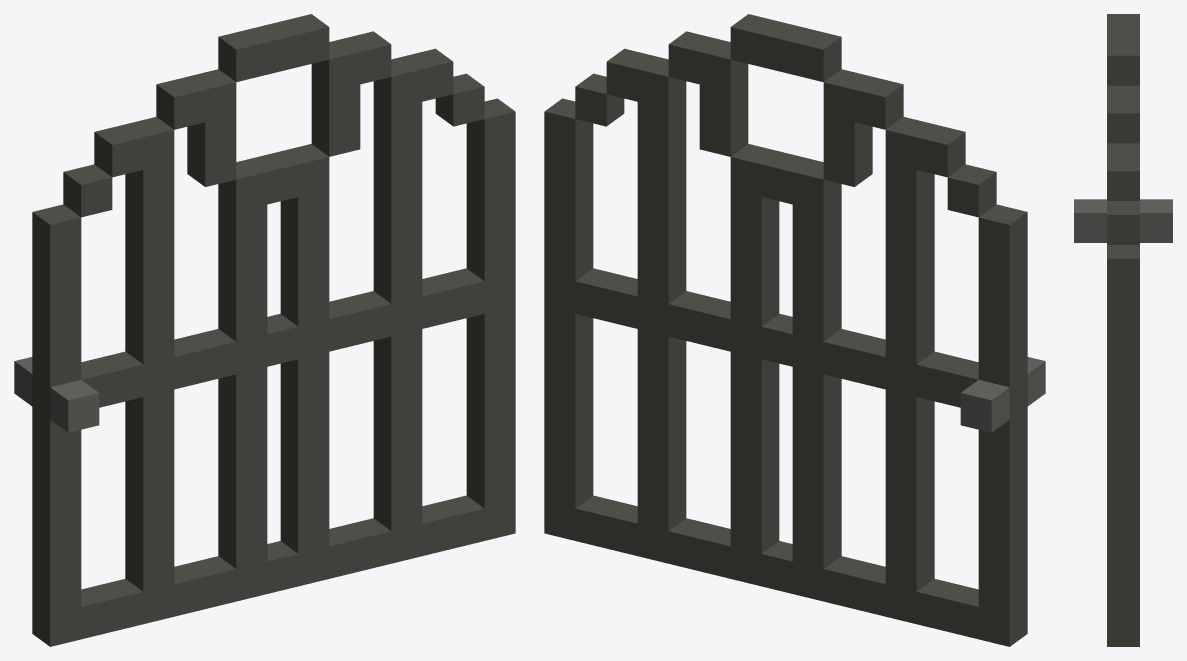
Rendered from church-43-gy_gatesingle.obj.
The picture shows the model from 3 angles, left to right: view 1: azimuth 30°, elevation 25°; view 2: azimuth 150°, elevation 25°; view 3: azimuth 270°, elevation 25°; orthographic projection. The views are drawn at different scales.
Parts seen in each view (by area): view 1: gy_gatesingle; view 2: gy_gatesingle; view 3: gy_gatesingle.
Part boxes in pixels (bbox=[...]): gy_gatesingle: bbox=[14, 14, 515, 646]; gy_gatesingle: bbox=[544, 14, 1045, 646]; gy_gatesingle: bbox=[1074, 14, 1172, 646].
Bounding box in the file's own units: 1.5 × 1.7 × 0.3.
1 material, 1 textured.
